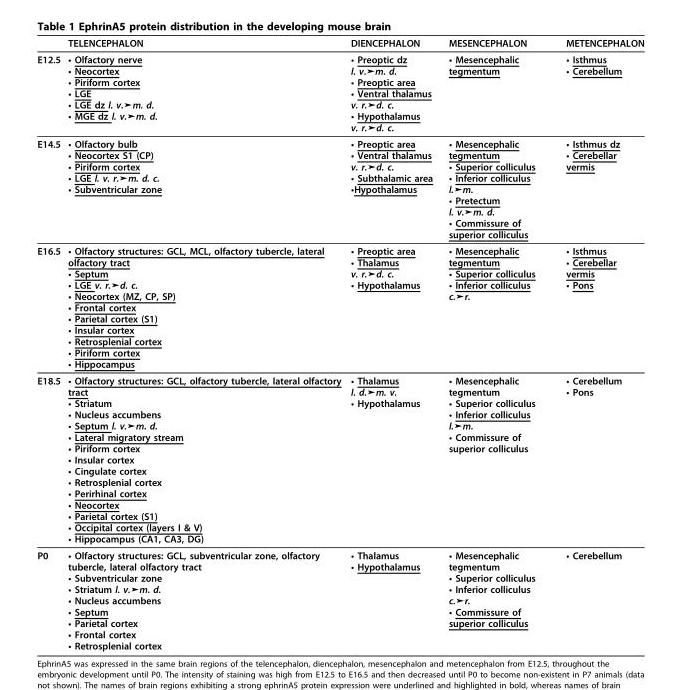table: (36, 36, 643, 651)
table column: (63, 36, 345, 651), (440, 36, 549, 651), (345, 36, 440, 651), (549, 36, 643, 651), (36, 36, 63, 651)
table column header: (36, 36, 643, 50)
table row: (36, 371, 643, 546), (36, 242, 643, 371), (36, 135, 643, 242), (36, 546, 643, 651), (36, 50, 643, 135), (36, 36, 643, 50)
